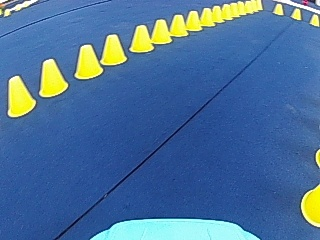cone: (6, 74, 36, 117), (38, 57, 69, 97), (74, 42, 103, 79), (101, 33, 127, 65), (301, 185, 318, 226), (129, 24, 153, 53), (151, 18, 171, 44), (169, 14, 188, 37), (185, 10, 202, 31), (200, 8, 214, 26), (211, 6, 223, 22), (221, 4, 232, 19), (290, 7, 302, 20), (272, 3, 284, 15), (308, 13, 319, 26), (230, 3, 239, 16), (237, 1, 245, 14)
